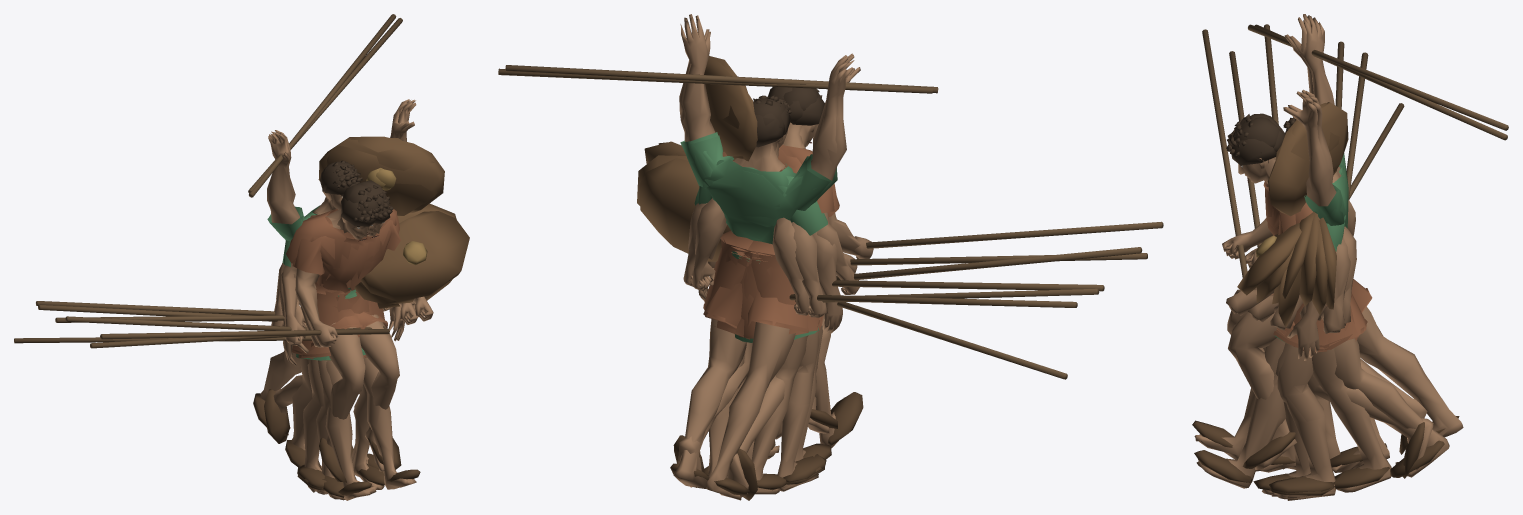
The model's file is victory-crowd.glb.
The picture shows the model from 3 angles, left to right: view 1: azimuth 30°, elevation 25°; view 2: azimuth 150°, elevation 25°; view 3: azimuth 270°, elevation 25°; orthographic projection. The views are drawn at different scales.
Visible parts, largest first — view 1: Run 3, Run 5, Cheer 2, Run 0, Run 4, Run 2, Run 1, Cheer 1, Cheer 0; view 2: Cheer 1, Run 0, Run 3, Cheer 2, Run 5, Run 4, Cheer 0, Run 2, Run 1; view 3: Run 0, Cheer 2, Run 3, Run 2, Run 1, Run 5, Cheer 0, Cheer 1, Run 4.
Boxes of the visible parts, bbox=[...] form: Run 3: bbox=[36, 211, 469, 500]; Run 5: bbox=[65, 184, 401, 471]; Cheer 2: bbox=[249, 14, 444, 492]; Run 0: bbox=[100, 210, 420, 489]; Run 4: bbox=[38, 197, 436, 500]; Run 2: bbox=[55, 180, 456, 482]; Run 1: bbox=[90, 195, 393, 489]; Cheer 1: bbox=[248, 18, 437, 360]; Cheer 0: bbox=[14, 168, 452, 494]; Cheer 1: bbox=[498, 17, 932, 488]; Run 0: bbox=[639, 151, 1163, 500]; Run 3: bbox=[658, 98, 1077, 488]; Cheer 2: bbox=[505, 14, 938, 487]; Run 5: bbox=[670, 87, 1142, 494]; Run 4: bbox=[673, 94, 1099, 488]; Cheer 0: bbox=[694, 96, 1067, 491]; Run 2: bbox=[644, 79, 1104, 477]; Run 1: bbox=[637, 155, 1147, 500]; Run 0: bbox=[1194, 29, 1463, 488]; Cheer 2: bbox=[1248, 14, 1508, 498]; Run 3: bbox=[1192, 52, 1449, 477]; Run 2: bbox=[1227, 117, 1391, 492]; Run 1: bbox=[1226, 51, 1427, 496]; Run 5: bbox=[1227, 24, 1389, 472]; Cheer 0: bbox=[1269, 103, 1404, 500]; Cheer 1: bbox=[1254, 16, 1507, 228]; Run 4: bbox=[1227, 41, 1433, 478].
Bounding box in the file's own units: 2.81 × 2.28 × 1.51.
